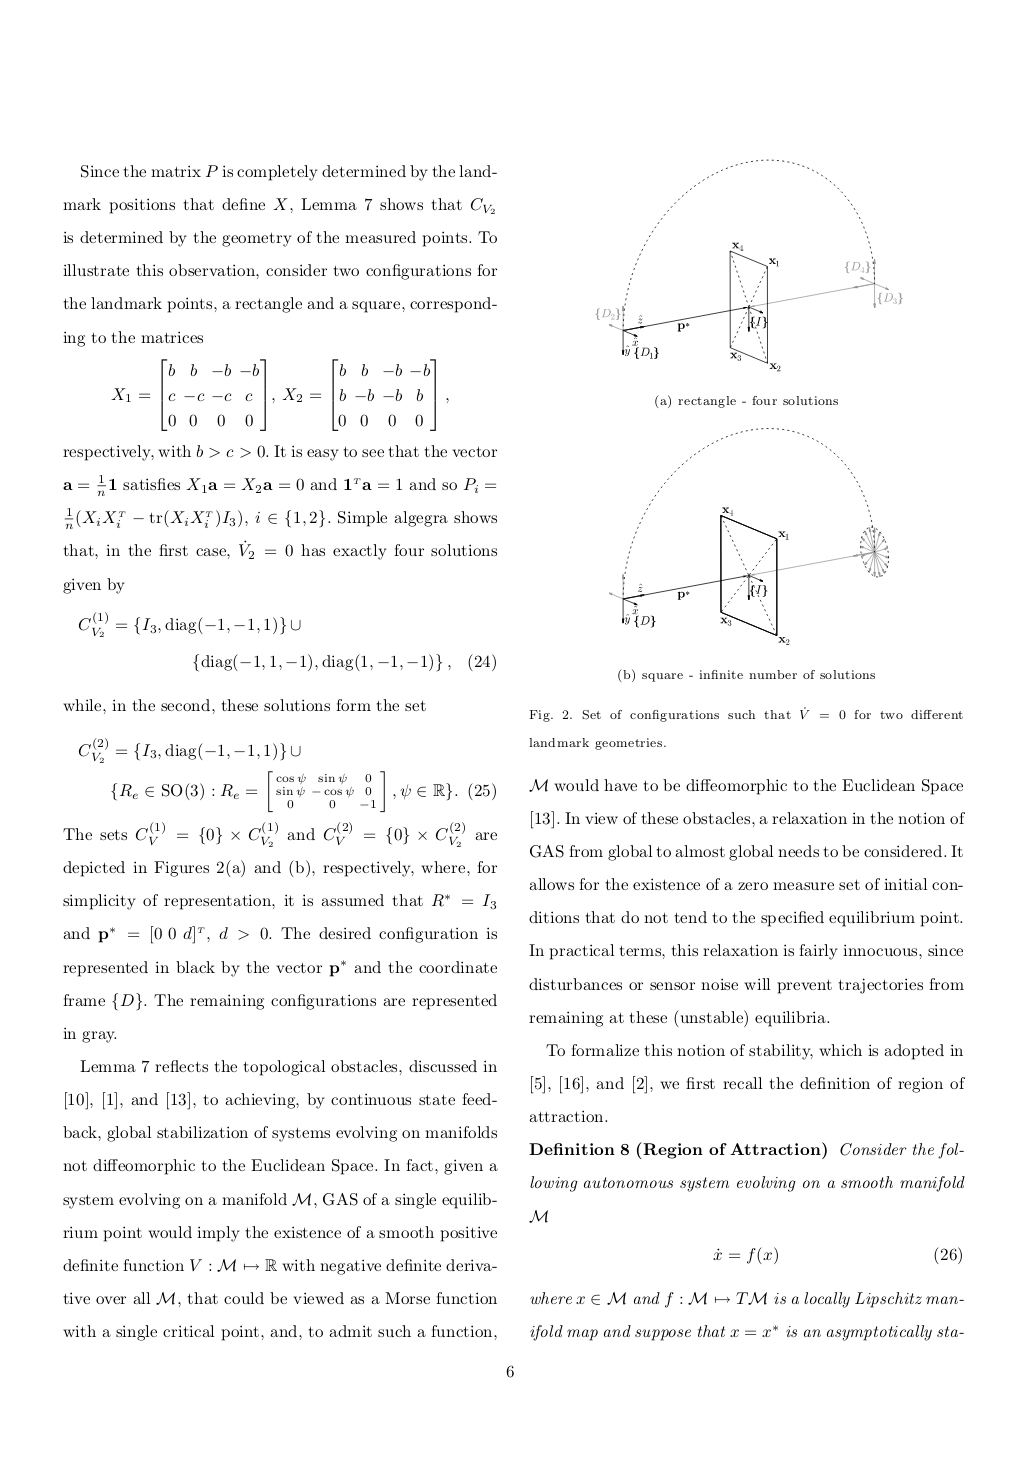figure: (595, 159, 902, 371), (609, 428, 888, 644)
formula: (111, 358, 448, 431), (111, 770, 495, 813), (193, 652, 495, 672), (78, 611, 300, 637), (78, 737, 300, 764), (713, 1245, 961, 1265)
